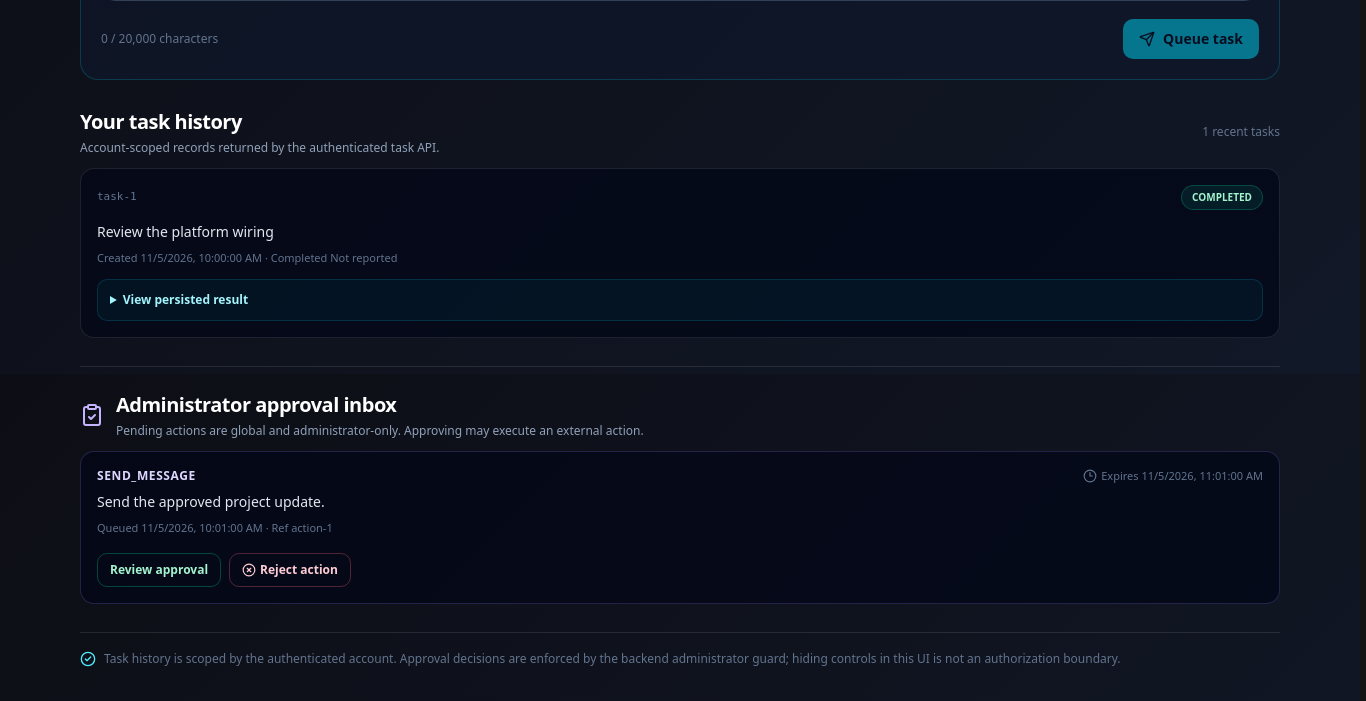
Test: Operations Center › requires a second explicit confirmation before executing a pending action
Later steps or results of the test are not shown.
(page scrolled)
Click the button "Review approval" at (159, 570), box [97, 552, 221, 586]
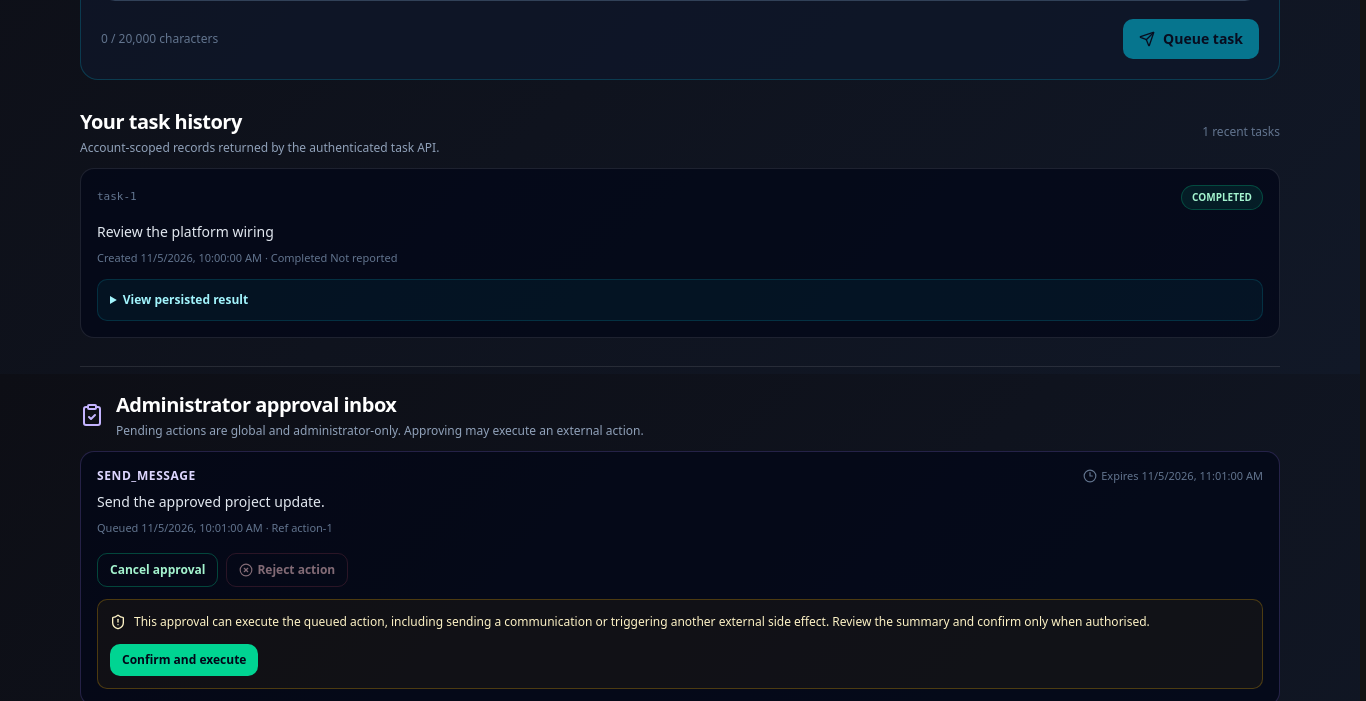
Result: the text "This approval can execute the queued action" is shown at [134, 612, 1150, 630]
